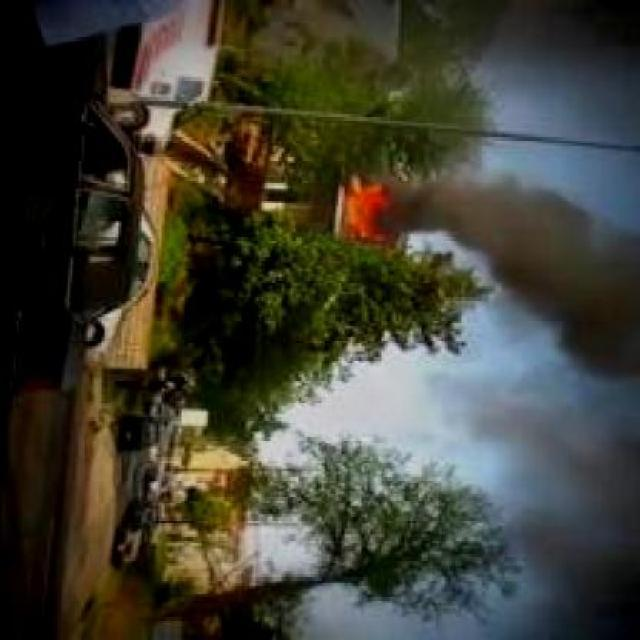Fire: (338, 172, 389, 249)
Smoke: (394, 169, 640, 380)
